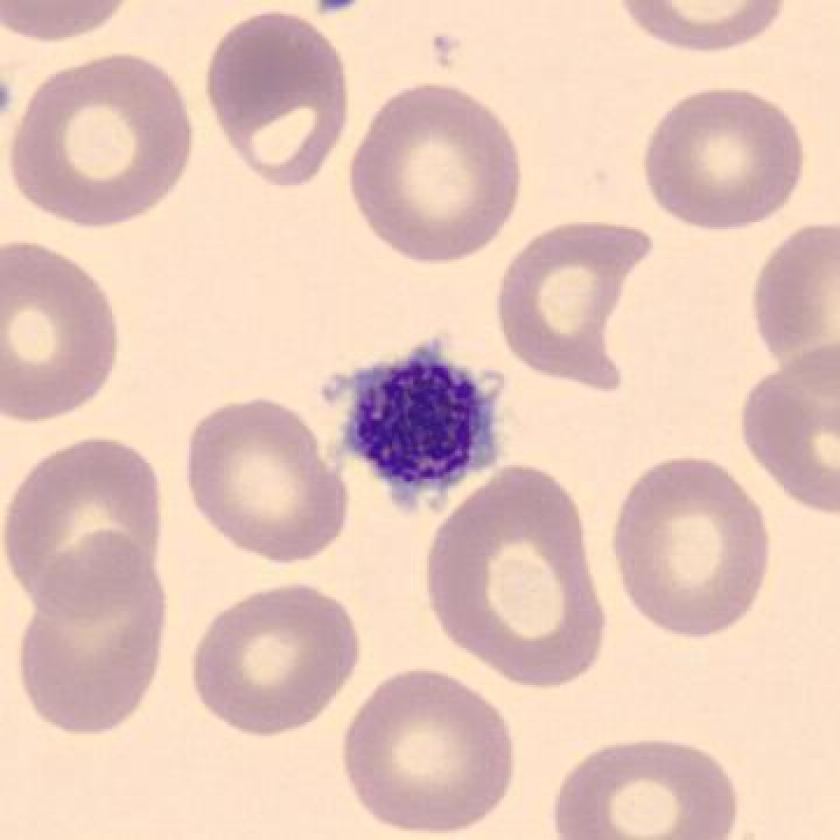platelets: (312, 320, 522, 529)
